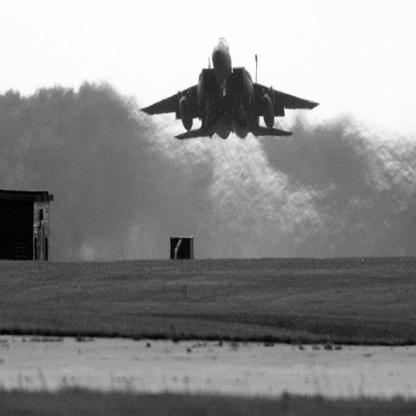F15: (139, 38, 322, 141)
